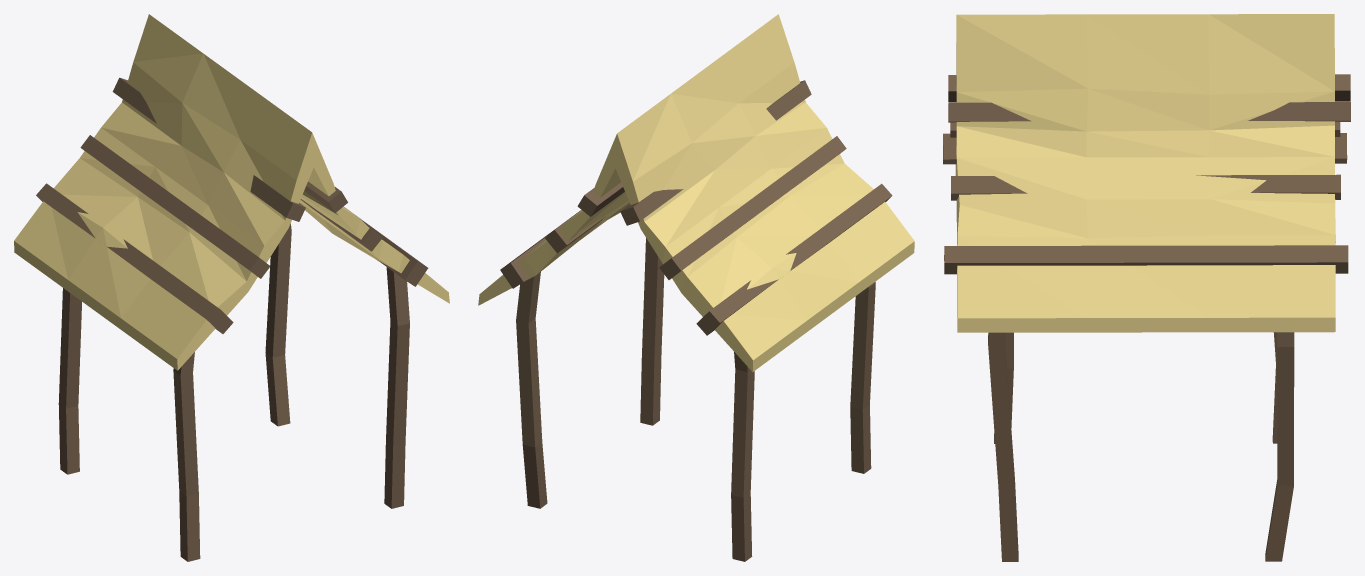
The model's file is Veranda_2.fbx.
3 views of the same model, side by side, from view 1: azimuth 30°, elevation 25°; view 2: azimuth 150°, elevation 25°; view 3: azimuth 270°, elevation 25° (orthographic). The views are drawn at different scales.
Parts seen in each view (by area): view 1: Veranda_2; view 2: Veranda_2; view 3: Veranda_2.
Part boxes in pixels (x1,y1,x2,y2): Veranda_2: (14, 14, 449, 561); Veranda_2: (478, 14, 914, 561); Veranda_2: (943, 14, 1350, 561).
Bounding box in the file's own units: 212 × 306 × 234.
Materials: 1 (1 with a texture image).
